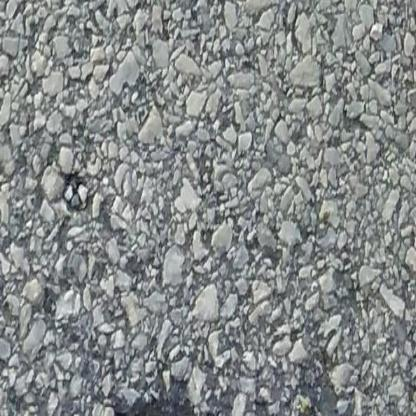Cracks: (104, 376, 217, 416)
